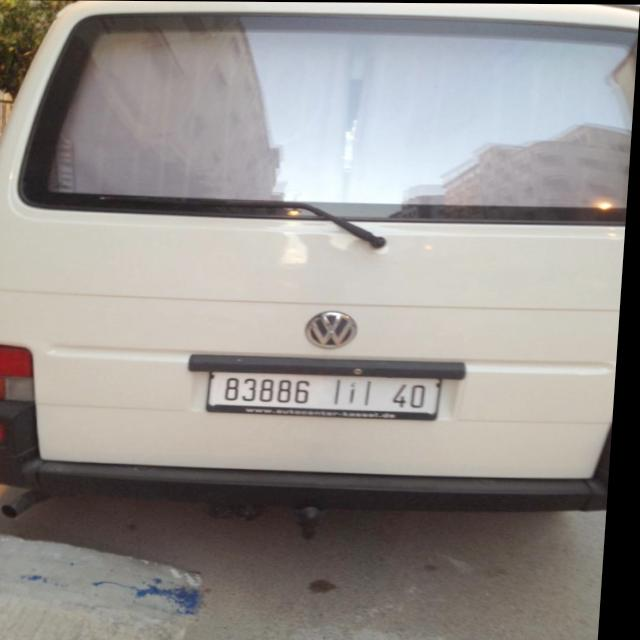License-Plate: (212, 371, 445, 419)
